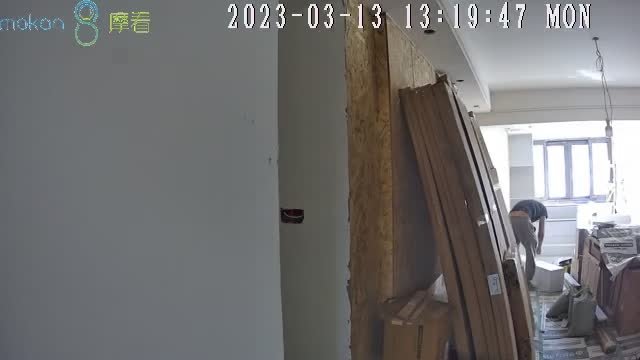people: (509, 199, 548, 290)
window: (534, 137, 612, 198)
